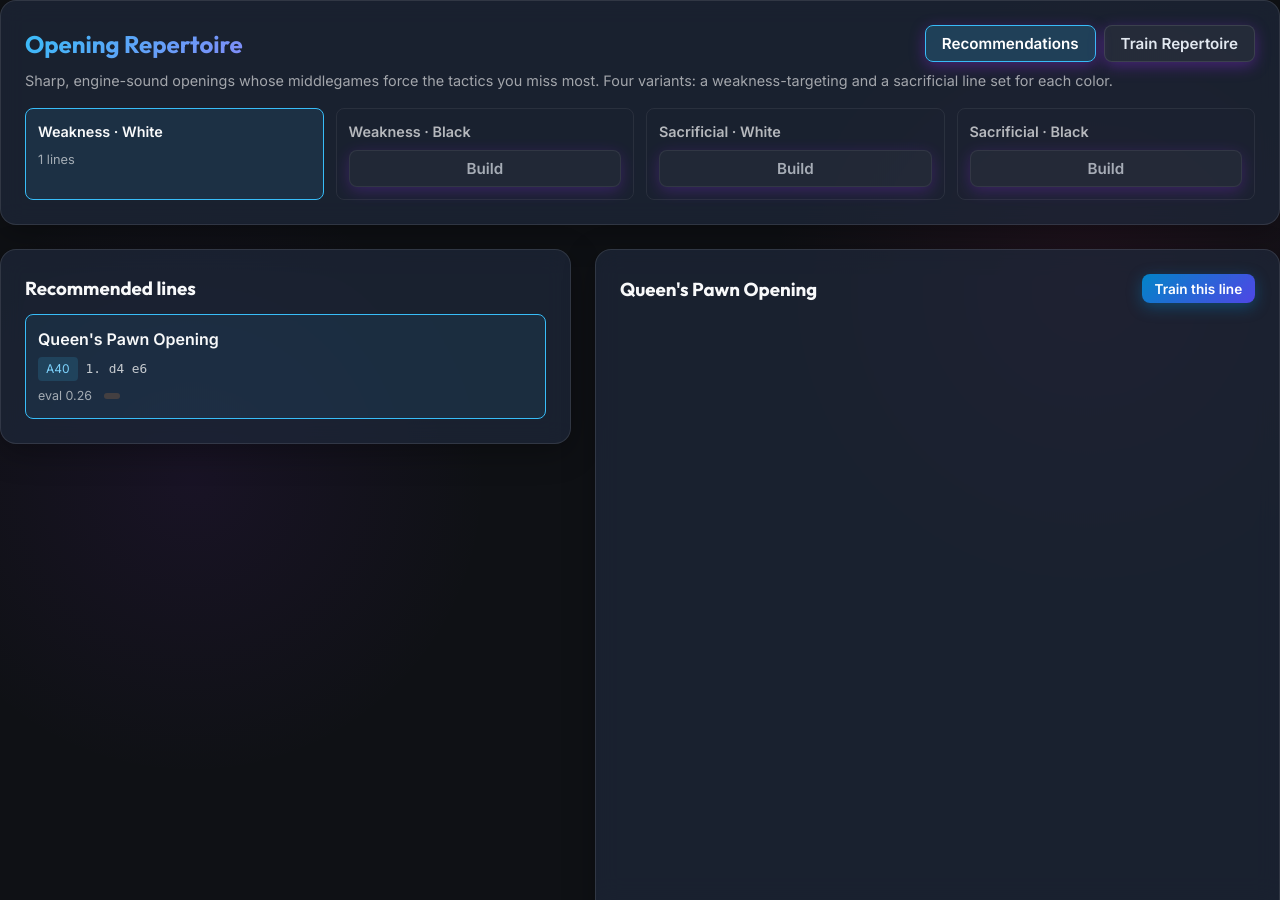
Test: RepertoireTrainer Integration & Edge-Case Tests › 3. Renders friendly empty state and non-interactive board for empty nodes
Click the button "Train Repertoire". click: [1179, 44]
box: [1104,25,1255,62]
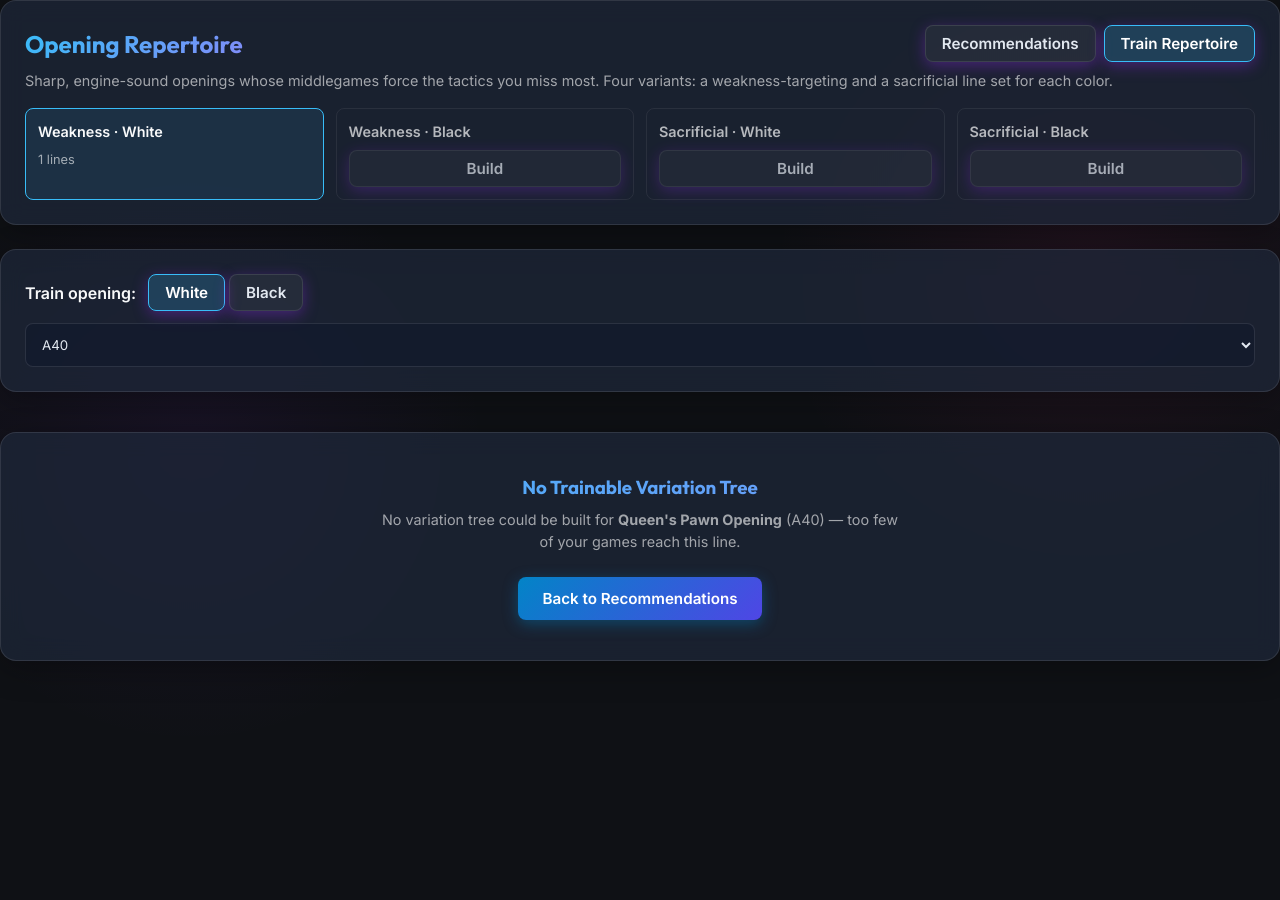
Expected: the heading "No Trainable Variation Tree" is shown, [41,473,1239,501]
Expected: the text "too few of your games reach this line" is shown, [540,511,898,550]
